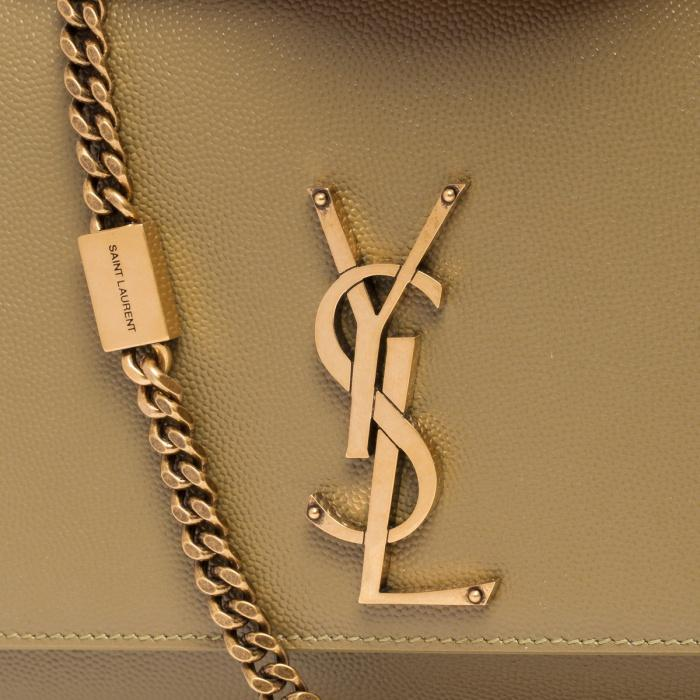YVES-SAINT-LAURENT: (306, 181, 501, 606)
